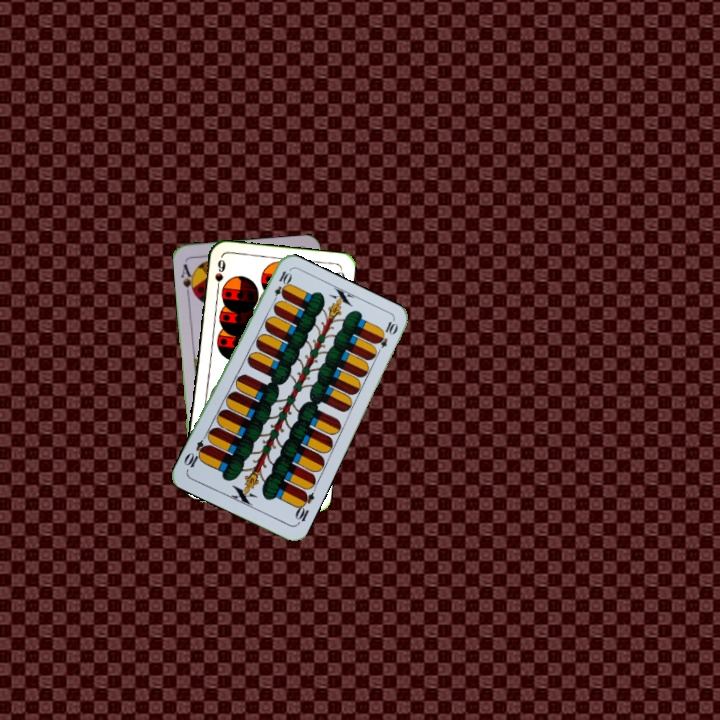E10: (291, 487, 317, 527), (268, 267, 293, 306)
S9: (211, 255, 228, 295)
SA: (177, 260, 198, 299)
